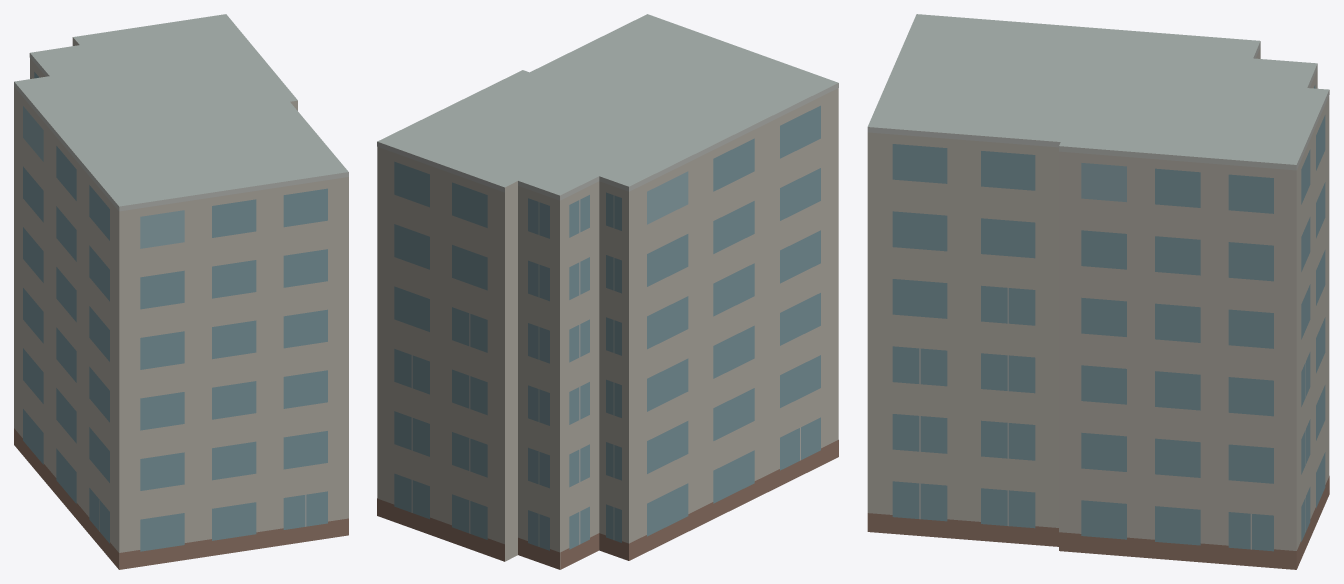
File: survey-upis-32717033.glb
The picture shows the model from 3 angles, left to right: view 1: azimuth 30°, elevation 25°; view 2: azimuth 150°, elevation 25°; view 3: azimuth 270°, elevation 25°; orthographic projection. The views are drawn at different scales.
Visible parts, largest first — view 1: survey-upis-32717033.tmp; view 2: survey-upis-32717033.tmp; view 3: survey-upis-32717033.tmp.
Boxes of the visible parts, x1,y1,x2,y2 form: survey-upis-32717033.tmp: (14,14,348,569); survey-upis-32717033.tmp: (377,14,838,569); survey-upis-32717033.tmp: (867,14,1329,569).
Size of the model in its own units: 14.4 by 18 by 18.62.
